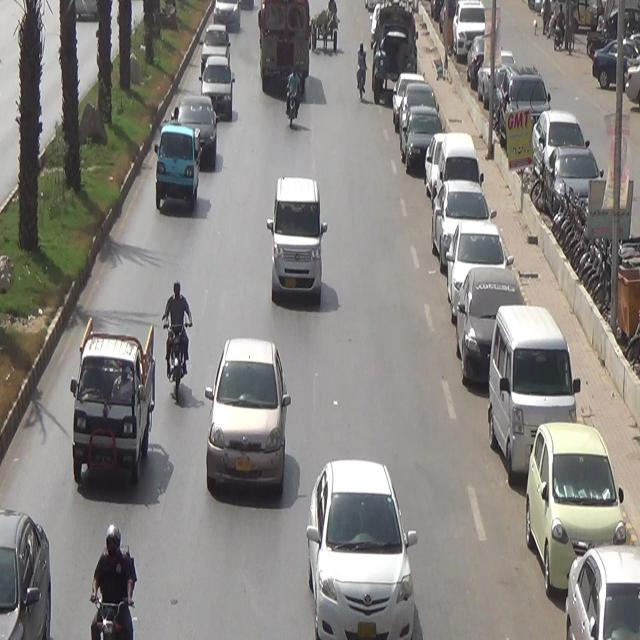car: (301, 460, 425, 640), (518, 422, 625, 597), (484, 304, 579, 480), (200, 335, 291, 513), (264, 158, 332, 316), (442, 268, 527, 388), (552, 543, 640, 640), (0, 502, 60, 640), (440, 221, 510, 320), (427, 176, 493, 265), (168, 89, 225, 171), (192, 55, 235, 112), (196, 16, 238, 72), (402, 108, 443, 164), (212, 0, 245, 34)
motorbike: (79, 510, 137, 640), (160, 276, 193, 410), (280, 58, 304, 141), (352, 44, 374, 105)
truck: (70, 295, 156, 501), (368, 0, 419, 111), (154, 117, 200, 215), (316, 0, 346, 63)
